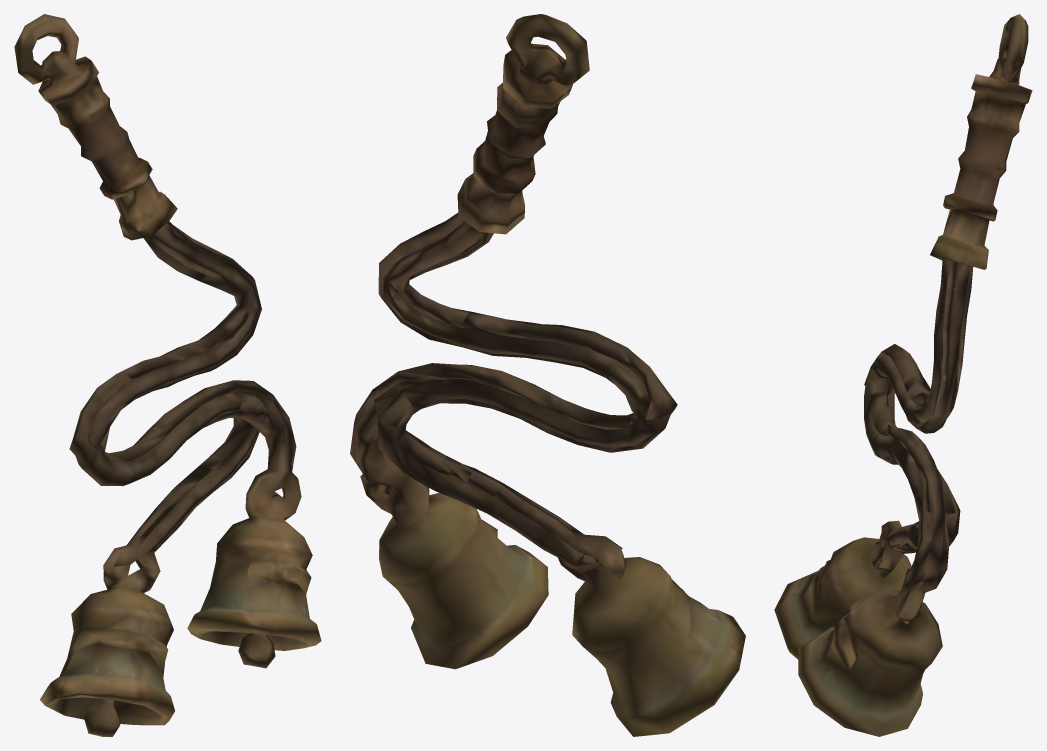
File: tll_ch7_midboss_flail.glb
3 renders of one model, left to right at view 1: azimuth 30°, elevation 25°; view 2: azimuth 150°, elevation 25°; view 3: azimuth 270°, elevation 25°, orthographic. The views are drawn at different scales.
Parts seen in each view (by area): view 1: weapon; view 2: weapon; view 3: weapon.
Part boxes in pixels (bbox=[...]): weapon: bbox=[14, 14, 321, 736]; weapon: bbox=[350, 14, 745, 736]; weapon: bbox=[774, 14, 1032, 736].
Bounding box in the file's own units: 0.7732 × 1.7 × 0.6003.
Materials: 1 (1 with a texture image).
